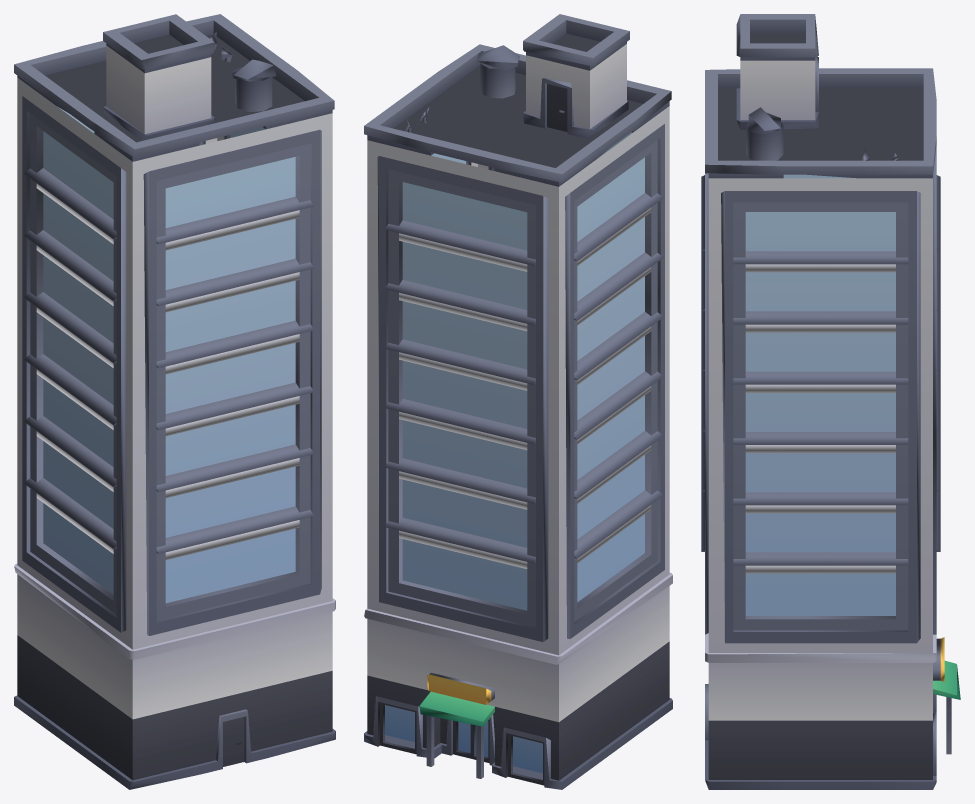
File: 091_city-kit-commercial_building-skyscraper-c_card.glb
3 views of the same model, side by side, from view 1: azimuth 30°, elevation 25°; view 2: azimuth 150°, elevation 25°; view 3: azimuth 270°, elevation 25° (orthographic). The views are drawn at different scales.
Parts seen in each view (by area): view 1: building-skyscraper-c; view 2: building-skyscraper-c; view 3: building-skyscraper-c.
Boxes of the visible parts, x1,y1,x2,y2 form: building-skyscraper-c: (14,14,335,789); building-skyscraper-c: (364,14,672,789); building-skyscraper-c: (701,14,960,789).
Size of the model in its own units: 1.28 by 4.08 by 1.39.
1 material, 1 textured.
